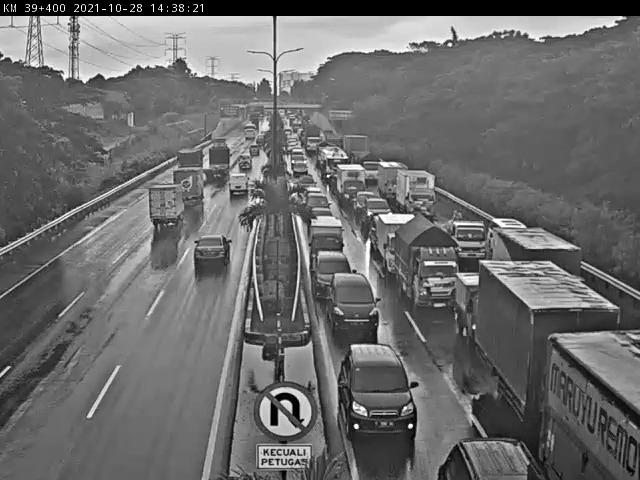big bus: (243, 124, 259, 140)
big truck: (474, 253, 619, 458), (544, 333, 640, 480), (500, 228, 586, 286), (435, 212, 491, 260), (346, 136, 384, 180), (318, 146, 352, 180), (176, 148, 207, 176), (209, 146, 232, 176)
car: (335, 344, 428, 435), (425, 426, 558, 480), (329, 274, 389, 336), (315, 249, 358, 292), (189, 230, 237, 268), (359, 197, 393, 226), (487, 216, 525, 241), (306, 191, 337, 209), (225, 172, 249, 195), (309, 205, 336, 222), (237, 154, 259, 171), (258, 132, 269, 145), (248, 144, 261, 154)
small truck: (395, 212, 460, 312), (454, 269, 513, 344), (377, 212, 425, 272), (399, 170, 440, 220), (311, 219, 350, 261), (147, 185, 184, 227), (172, 168, 207, 209), (374, 162, 406, 203), (335, 165, 366, 200)
